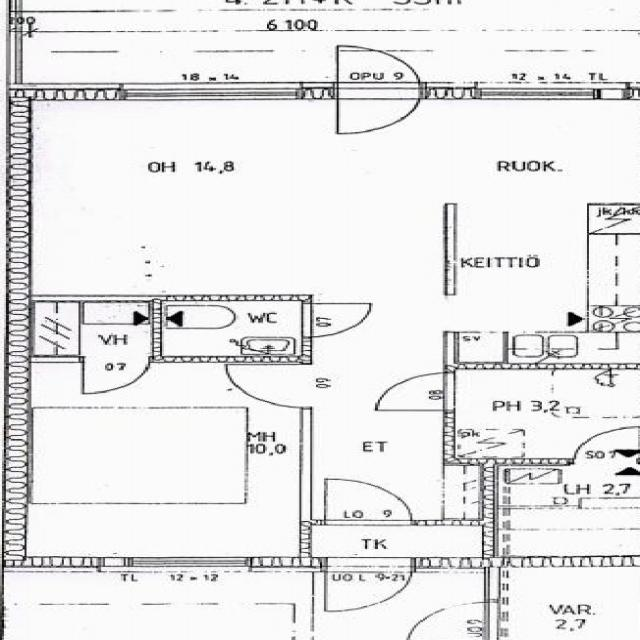door: (326, 557, 412, 617), (339, 40, 421, 100), (339, 82, 421, 142), (325, 474, 412, 524), (219, 365, 312, 407), (404, 602, 499, 640), (373, 372, 455, 410), (575, 424, 640, 466), (84, 356, 150, 396), (301, 303, 376, 337)
